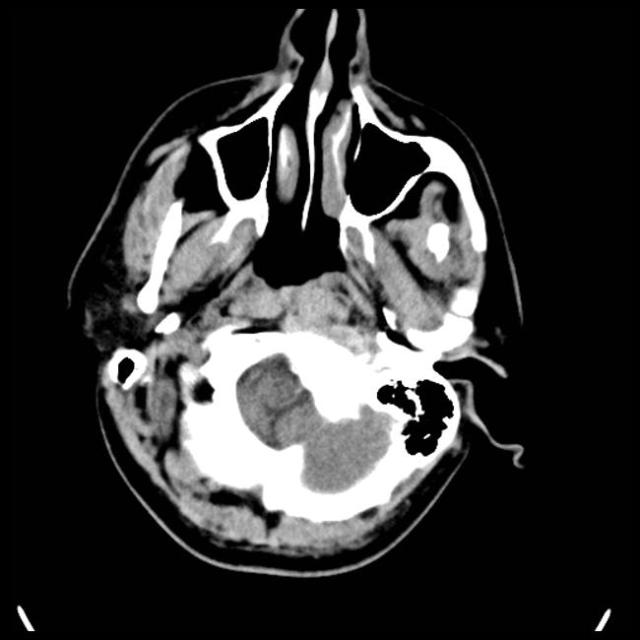lesion: (68, 7, 531, 577)
